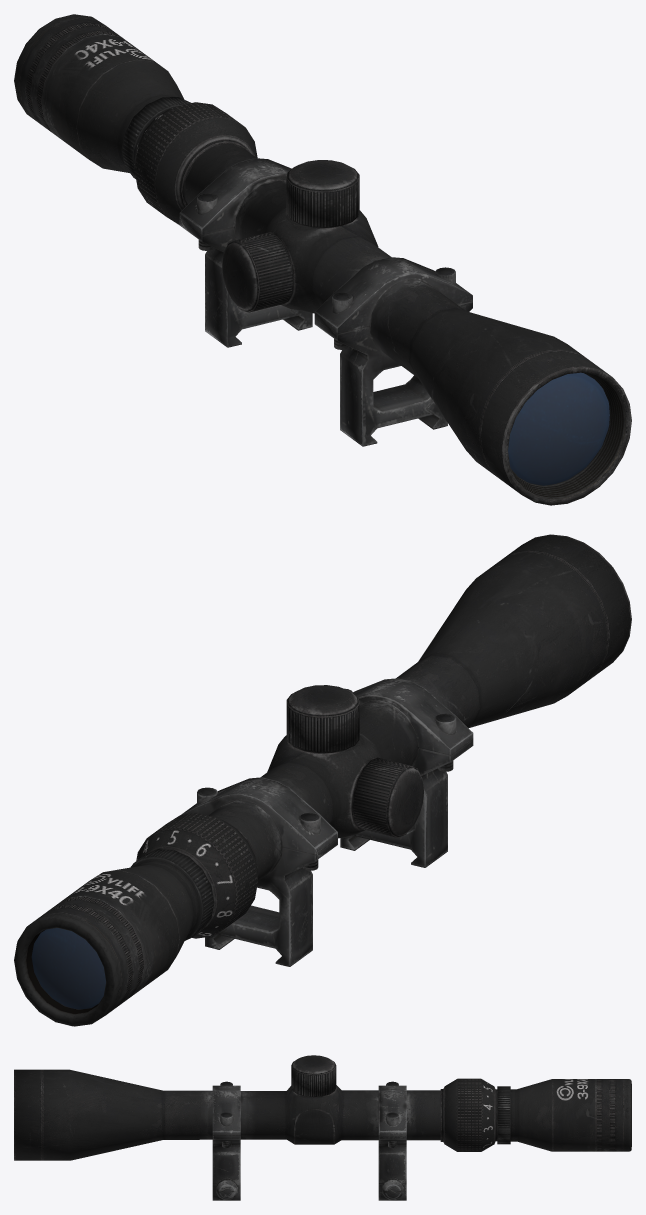
File: Sniper_scope.fbx
The picture shows the model from 3 angles, top to bottom: view 1: azimuth 30°, elevation 25°; view 2: azimuth 150°, elevation 25°; view 3: azimuth 270°, elevation 25°; orthographic projection. The views are drawn at different scales.
Visible parts, largest first — view 1: scope; view 2: scope; view 3: scope.
Part boxes in pixels (x1,y1,x2,y2): scope: (14,14,631,505); scope: (14,534,631,1026); scope: (14,1055,631,1200).
Bounding box in the file's own units: 5.3 × 6.71 × 29.93.
